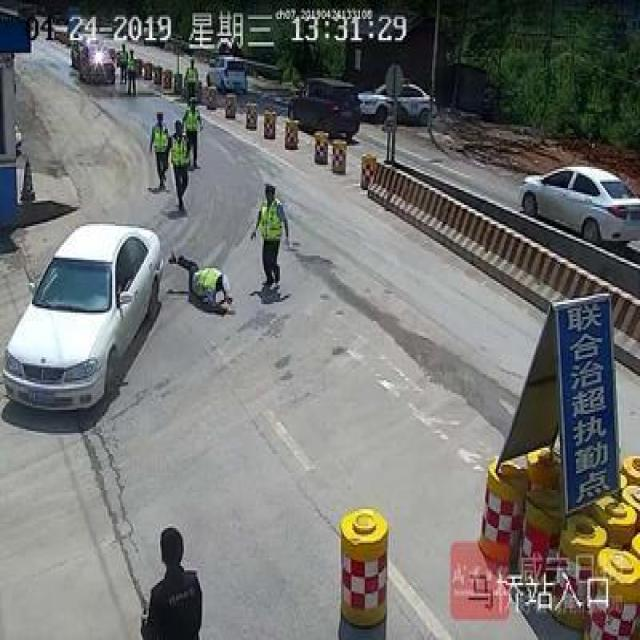fall: (155, 241, 235, 319)
nonfall: (141, 523, 204, 640), (248, 174, 288, 292), (168, 122, 192, 216), (150, 111, 170, 193), (184, 96, 202, 172), (183, 56, 201, 113), (119, 42, 129, 91), (127, 47, 137, 93)
